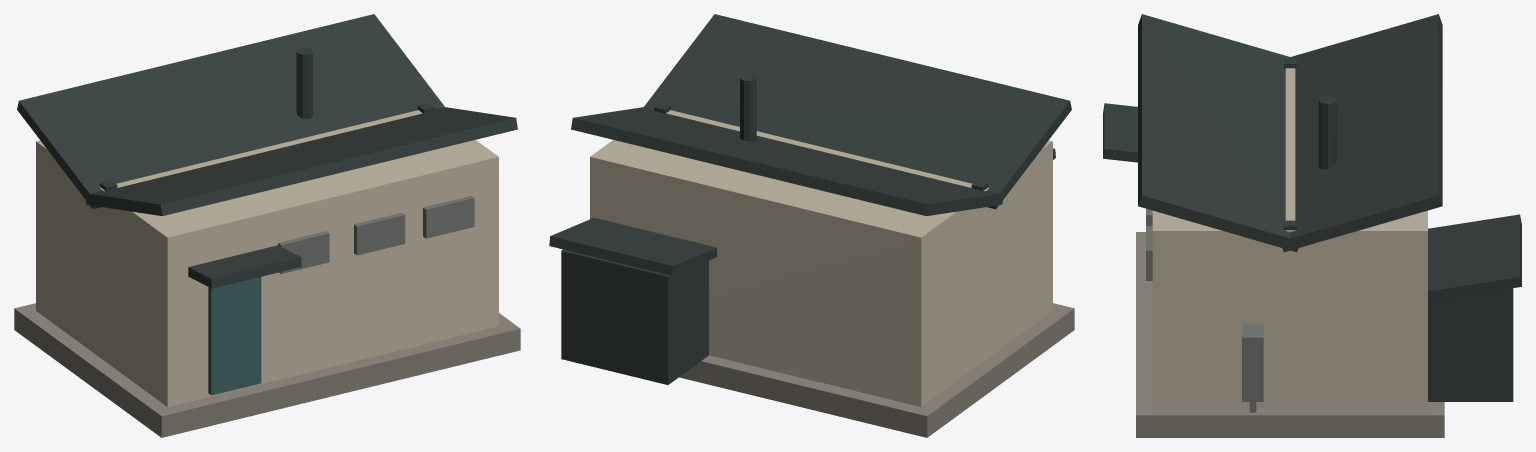
Rendered from Bathhouse.glb.
3 renders of one model, left to right at view 1: azimuth 30°, elevation 25°; view 2: azimuth 150°, elevation 25°; view 3: azimuth 270°, elevation 25°, orthographic. The views are drawn at different scales.
Visible parts, largest first — view 1: bathhouse-static-bathhouse-cream-panels, bathhouse-static-bathhouse-charcoal-frame, bathhouse-static-bathhouse-pale-concrete, bathhouse-static-bathhouse-muted-teal-door, bathhouse-static-bathhouse-utility-steel; view 2: bathhouse-static-bathhouse-charcoal-frame, bathhouse-static-bathhouse-cream-panels, bathhouse-static-bathhouse-pale-concrete; view 3: bathhouse-static-bathhouse-charcoal-frame, bathhouse-static-bathhouse-cream-panels, bathhouse-static-bathhouse-pale-concrete, bathhouse-static-bathhouse-utility-steel.
Boxes of the visible parts, <box> form: bathhouse-static-bathhouse-cream-panels: <box>36,110,498,406</box>; bathhouse-static-bathhouse-charcoal-frame: <box>17,14,517,288</box>; bathhouse-static-bathhouse-pale-concrete: <box>14,303,520,437</box>; bathhouse-static-bathhouse-muted-teal-door: <box>208,277,261,395</box>; bathhouse-static-bathhouse-utility-steel: <box>278,196,474,273</box>; bathhouse-static-bathhouse-charcoal-frame: <box>549,14,1071,384</box>; bathhouse-static-bathhouse-cream-panels: <box>590,110,1052,406</box>; bathhouse-static-bathhouse-pale-concrete: <box>679,303,1074,437</box>; bathhouse-static-bathhouse-charcoal-frame: <box>1103,14,1521,401</box>; bathhouse-static-bathhouse-cream-panels: <box>1152,68,1427,408</box>; bathhouse-static-bathhouse-pale-concrete: <box>1136,232,1444,437</box>; bathhouse-static-bathhouse-utility-steel: <box>1146,208,1263,412</box>.
Size of the model in its own units: 5.41 by 3.63 by 5.02.
